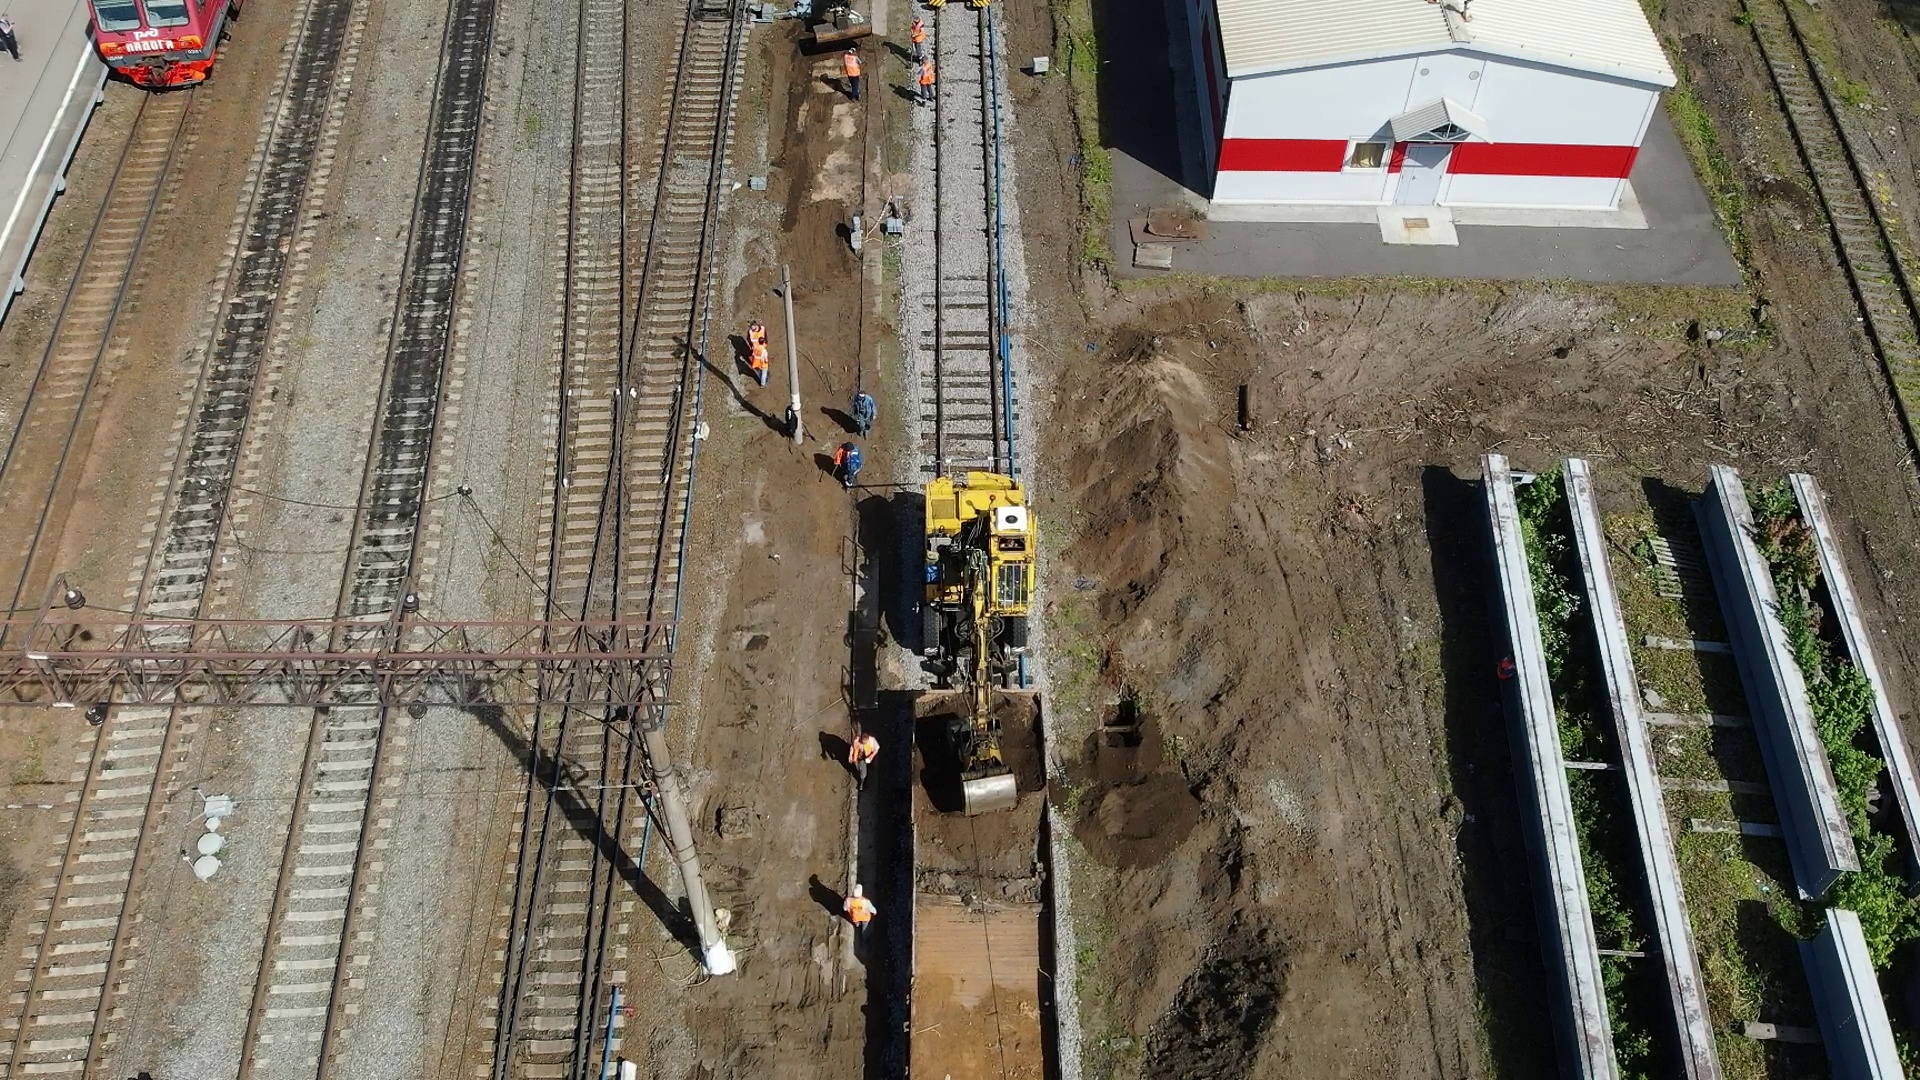kjtv: (915, 470, 1039, 653)
